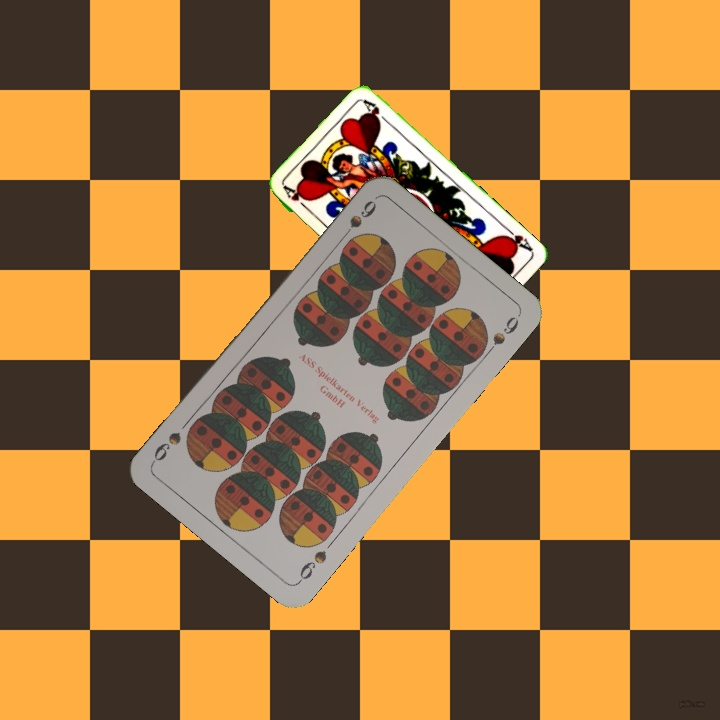HA: (498, 222, 535, 254), (279, 182, 313, 214)
S9: (335, 196, 379, 245), (294, 546, 330, 586)
